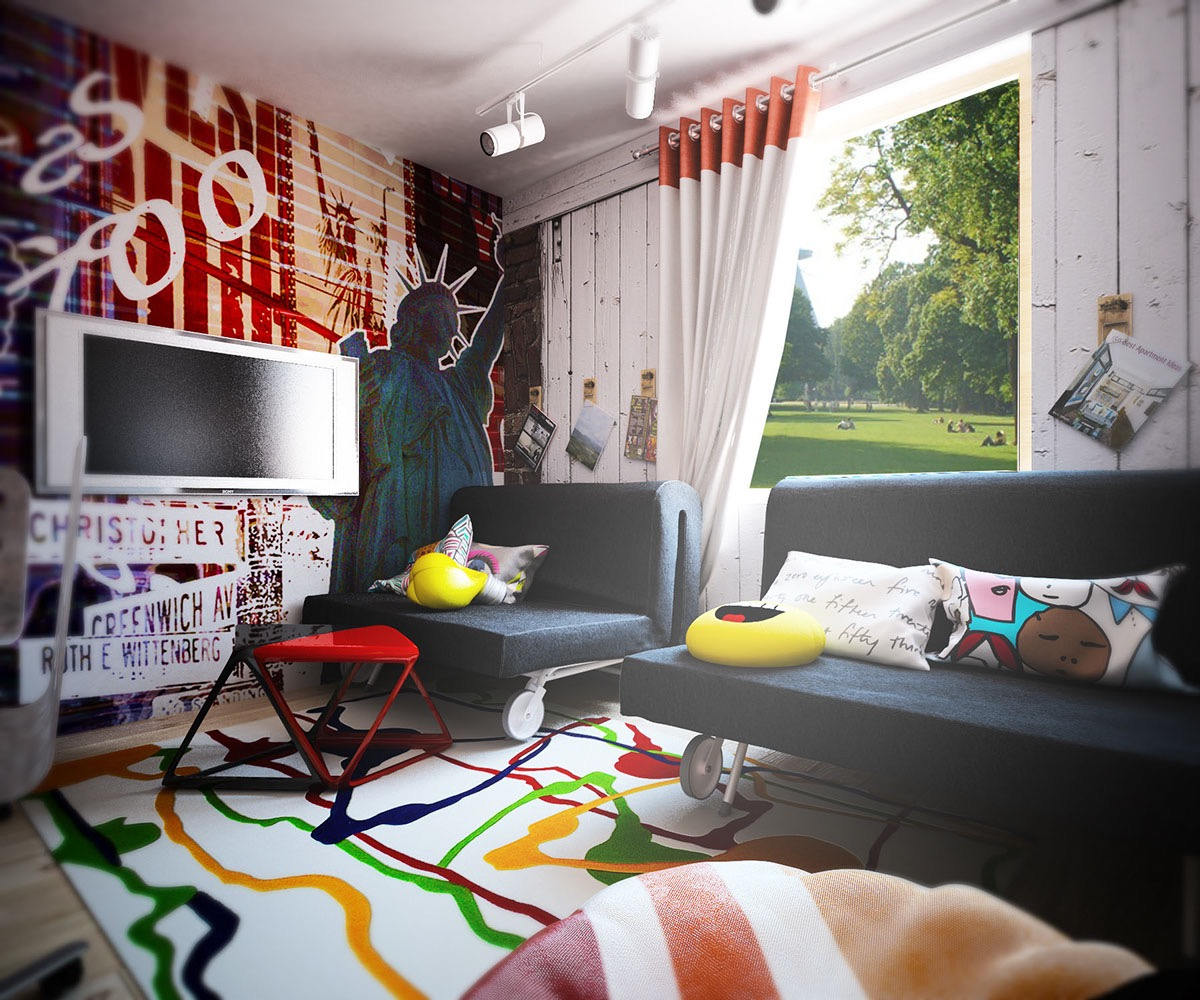hitam: (765, 466, 1197, 816), (477, 479, 685, 674)
kuning: (690, 611, 825, 666), (413, 559, 477, 604)
merah: (268, 624, 441, 773)
putih: (621, 35, 661, 123), (492, 111, 547, 154)
